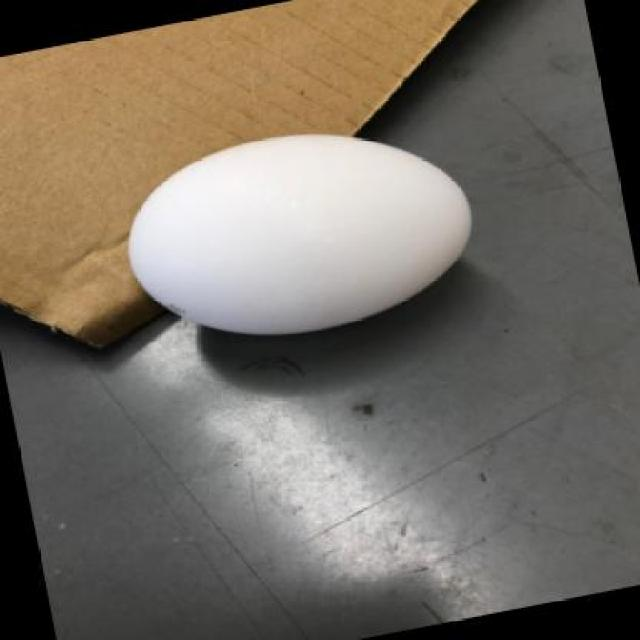egg: (125, 127, 481, 343)
